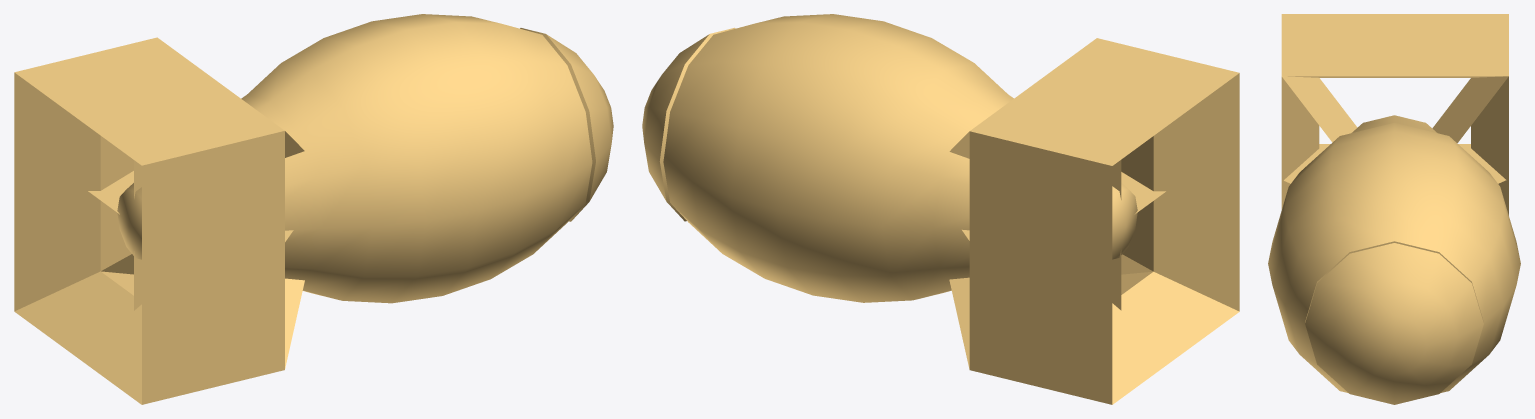
File: zombie_bomb.glb
3 views of the same model, side by side, from view 1: azimuth 30°, elevation 25°; view 2: azimuth 150°, elevation 25°; view 3: azimuth 270°, elevation 25° (orthographic). The views are drawn at different scales.
Parts seen in each view (by area): view 1: zombie_bomb; view 2: zombie_bomb; view 3: zombie_bomb.
Part boxes in pixels (bbox=[...]): zombie_bomb: bbox=[14, 14, 613, 404]; zombie_bomb: bbox=[642, 14, 1239, 404]; zombie_bomb: bbox=[1268, 14, 1520, 404].
Bounding box in the file's own units: 1.08 × 0.5054 × 0.5054.
